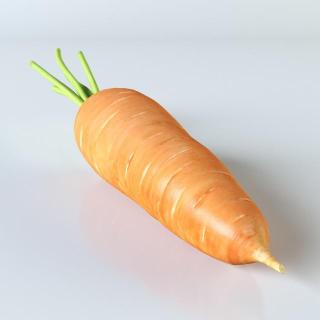carrot: (70, 86, 292, 274)
